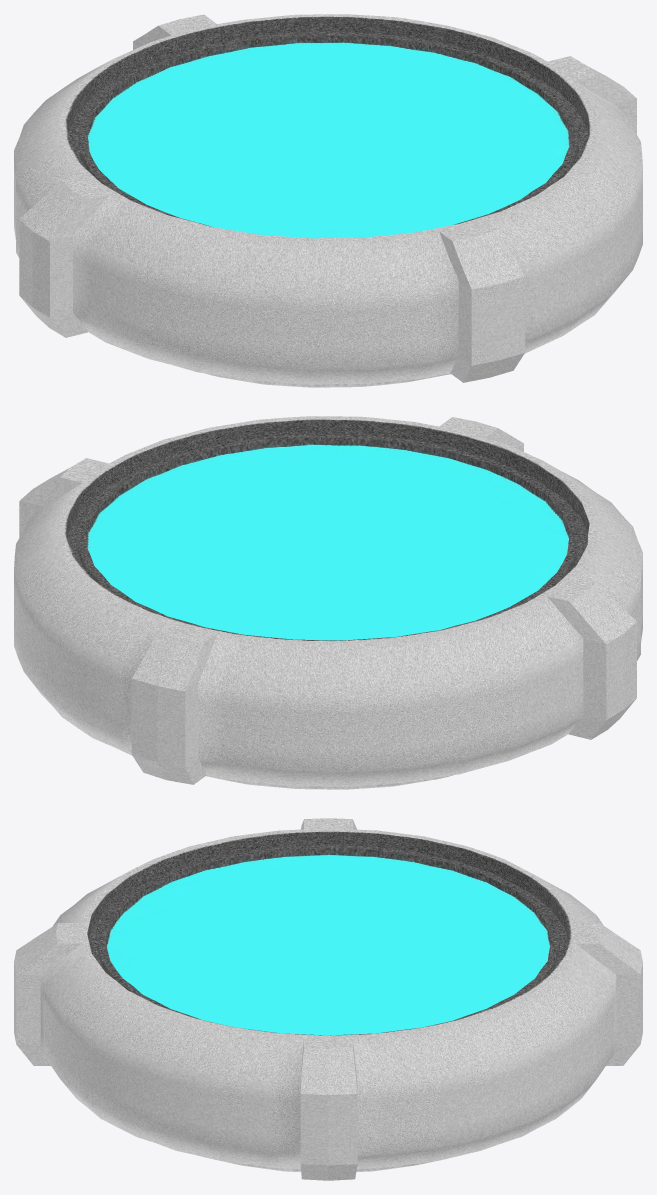
Rendered from holo-puck-transformed.glb.
3 renders of one model, top to bottom at view 1: azimuth 30°, elevation 25°; view 2: azimuth 150°, elevation 25°; view 3: azimuth 270°, elevation 25°, orthographic. The views are drawn at different scales.
Parts seen in each view (by area): view 1: Cylinder_Material_0; view 2: Cylinder_Material_0; view 3: Cylinder_Material_0.
Boxes of the visible parts, x1,y1,x2,y2 form: Cylinder_Material_0: (14, 14, 642, 387); Cylinder_Material_0: (14, 416, 642, 789); Cylinder_Material_0: (14, 818, 642, 1180).
Bounding box in the file's own units: 6.44 × 1.62 × 6.44.
1 material, 1 textured.
